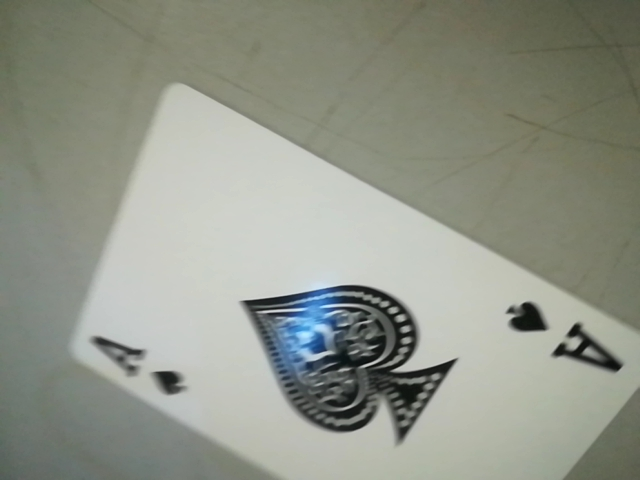ht a: (496, 292, 637, 380), (60, 330, 211, 408)
